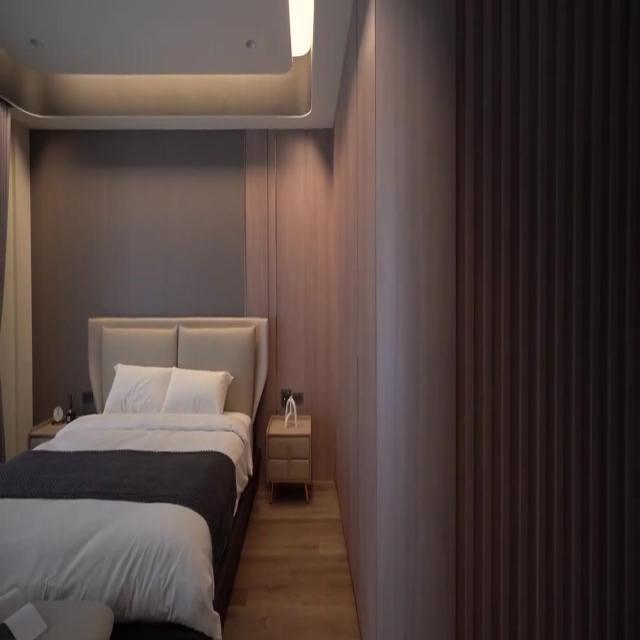obstacle: (0, 315, 268, 638), (0, 597, 114, 639)
